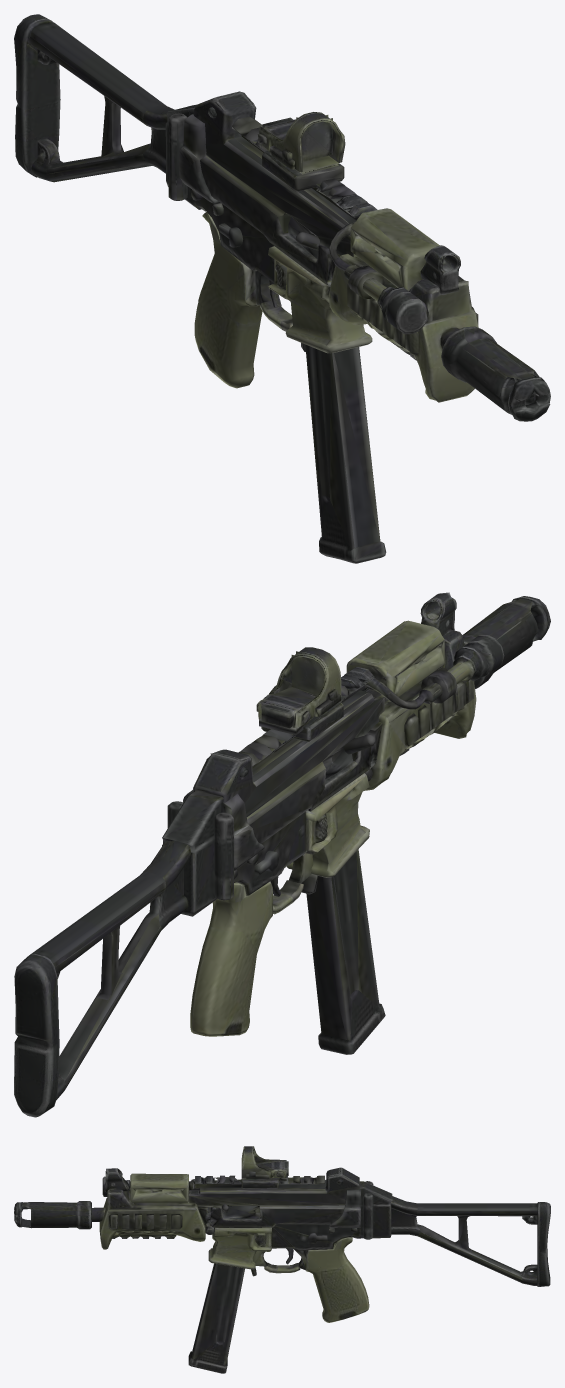
The model's file is smg.glb.
3 renders of one model, top to bottom at view 1: azimuth 30°, elevation 25°; view 2: azimuth 150°, elevation 25°; view 3: azimuth 270°, elevation 25°, orthographic. The views are drawn at different scales.
Visible parts, largest first — view 1: w_smg; view 2: w_smg; view 3: w_smg.
Part boxes in pixels (box(x1,y1,x2,y2)): w_smg: box(14, 14, 550, 563); w_smg: box(14, 592, 550, 1117); w_smg: box(14, 1146, 550, 1373).
Size of the model in its own units: 0.0616 by 0.2738 by 0.6.
Materials: 1 (1 with a texture image).
